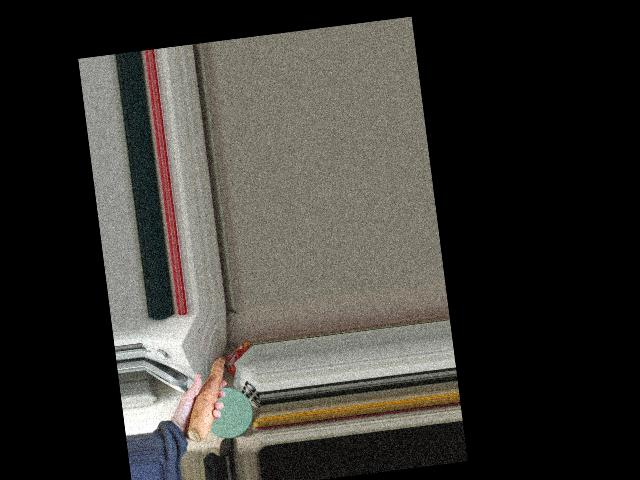sweet_potato: (175, 350, 238, 444)
